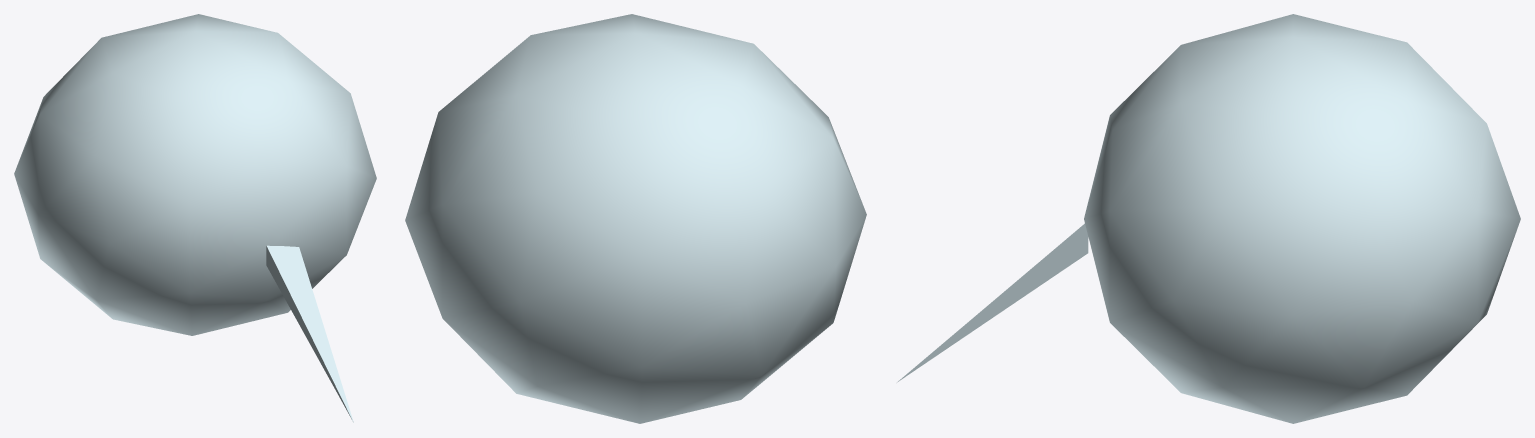
Rendered from sea_sparkle_speck.glb.
3 views of the same model, side by side, from view 1: azimuth 30°, elevation 25°; view 2: azimuth 150°, elevation 25°; view 3: azimuth 270°, elevation 25° (orthographic). The views are drawn at different scales.
Parts seen in each view (by area): view 1: sea_sparkle_speck; view 2: sea_sparkle_speck; view 3: sea_sparkle_speck.
Part boxes in pixels (<box>): sea_sparkle_speck: <box>14,14,376,422</box>; sea_sparkle_speck: <box>405,14,866,423</box>; sea_sparkle_speck: <box>897,14,1520,423</box>.
Size of the model in its own units: 0.004 by 0.00352 by 0.0055.
